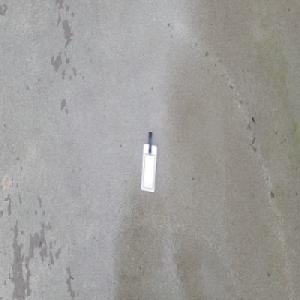LuggageTag: (139, 131, 158, 193)
